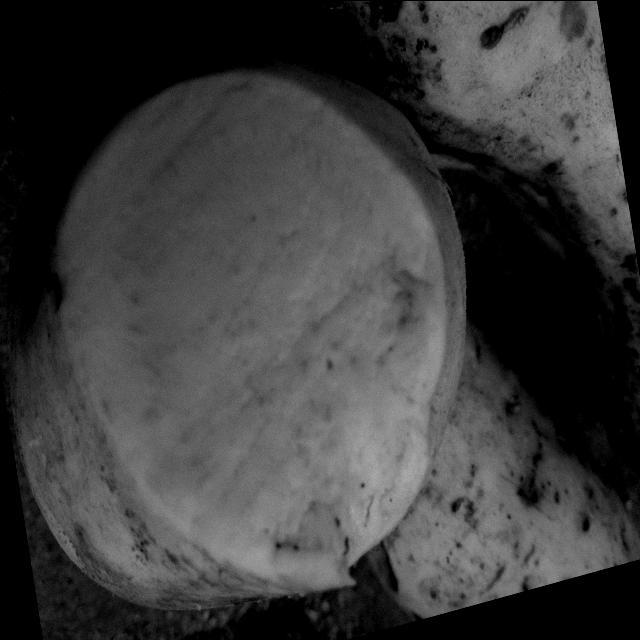Healthy Sweet Potato: (58, 72, 446, 590)
